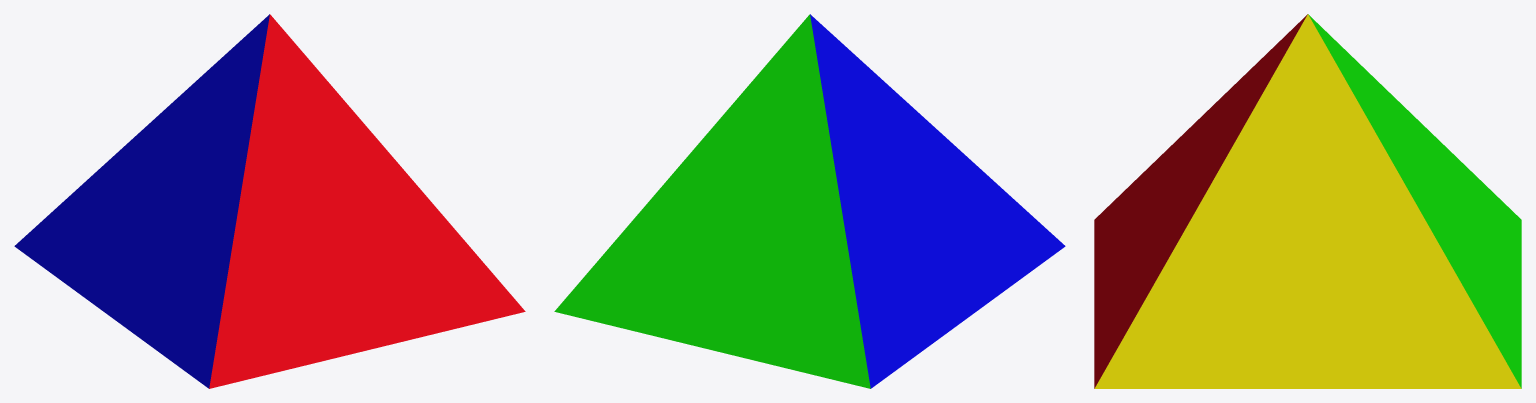
The model's file is limas-segiempat.glb.
3 renders of one model, left to right at view 1: azimuth 30°, elevation 25°; view 2: azimuth 150°, elevation 25°; view 3: azimuth 270°, elevation 25°, orthographic. The views are drawn at different scales.
Parts seen in each view (by area): view 1: Mesh_Mesh_head_geo.001_lambert2SG.001; view 2: Mesh_Mesh_head_geo.001_lambert2SG.001; view 3: Mesh_Mesh_head_geo.001_lambert2SG.001.
Part boxes in pixels (left/top/right/bottom): Mesh_Mesh_head_geo.001_lambert2SG.001: left=14, top=14, right=525, bottom=388; Mesh_Mesh_head_geo.001_lambert2SG.001: left=554, top=14, right=1065, bottom=388; Mesh_Mesh_head_geo.001_lambert2SG.001: left=1094, top=14, right=1521, bottom=388.
Bounding box in the file's own units: 7.5 × 6 × 8.
